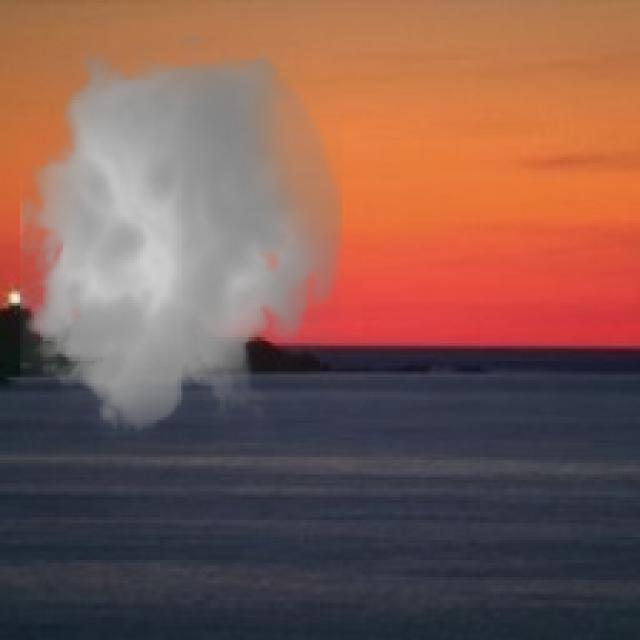smoke: (6, 34, 354, 446)
